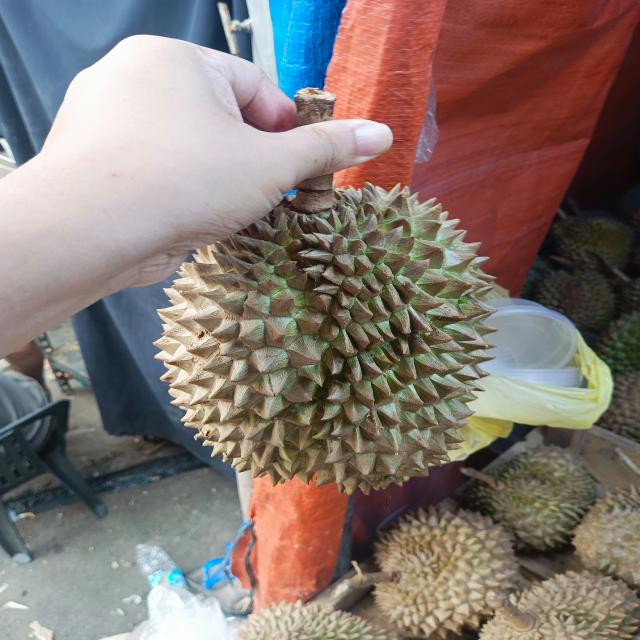mature: (149, 178, 494, 494), (463, 569, 640, 640), (208, 601, 408, 640)
